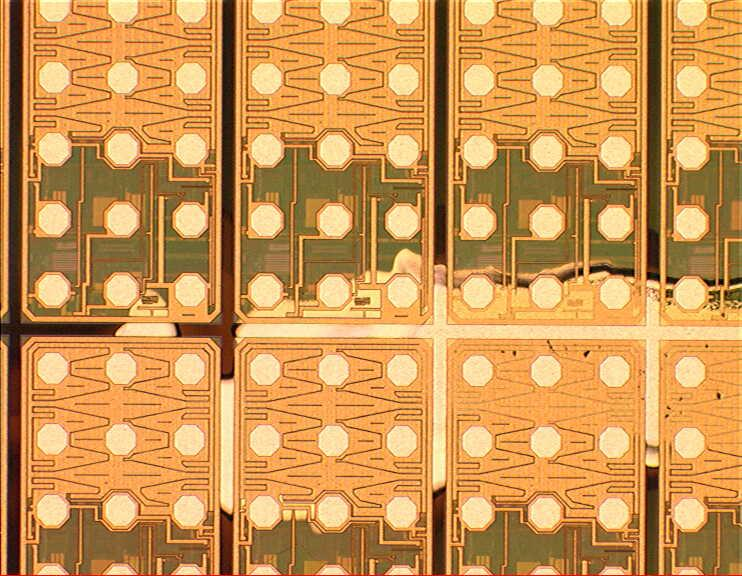COATING BAD: (110, 248, 742, 532)
